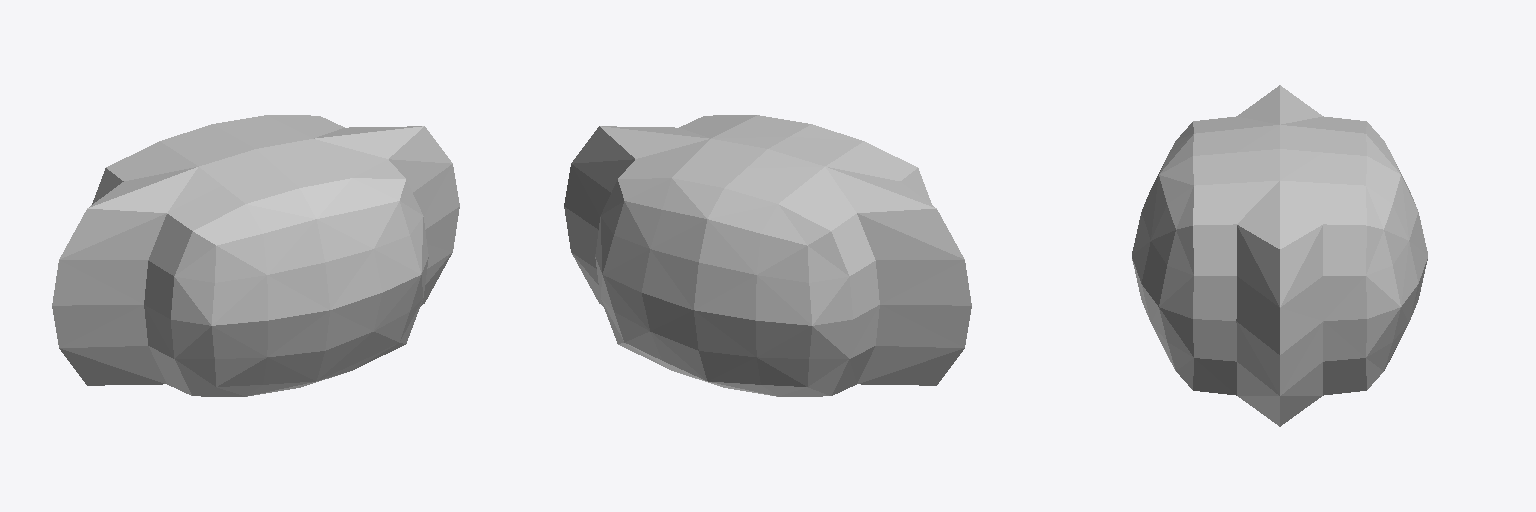
Rendered from squaremorph2.obj.
3 views of the same model, side by side, from view 1: azimuth 30°, elevation 25°; view 2: azimuth 150°, elevation 25°; view 3: azimuth 270°, elevation 25° (orthographic).
Parts seen in each view (by area): view 1: Cube1; view 2: Cube1; view 3: Cube1.
Boxes of the visible parts, box(x1,y1,x2,y2) form: Cube1: box(52, 115, 459, 396); Cube1: box(564, 115, 971, 396); Cube1: box(1132, 85, 1427, 426).
Bounding box in the file's own units: 1.5 × 0.75 × 0.9432.